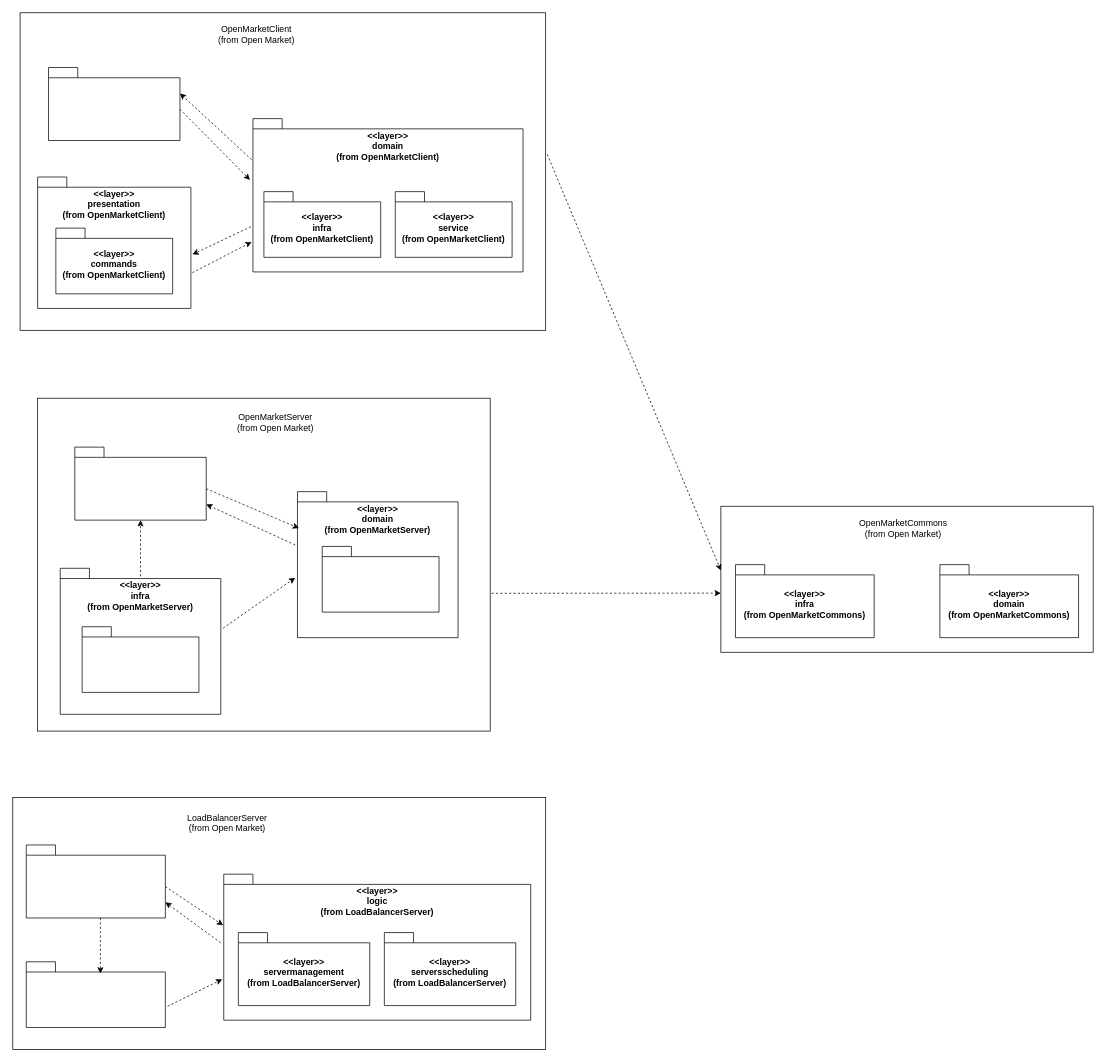
Image size: 1106x1062. Some labels were removed from this diagram. Each missing label, with the centre of its shape:
<<layer>> access (from OpenMarketClient): pixel 114 104
<<layer>> access (from OpenMarketServer): pixel 140 483
<<layer>> infra (from LoadBalancerServer): pixel 95 881
<<layer>> presentation (from LoadBalancerServer): pixel 95 994
<<layer>> service (from OpenMarketServer): pixel 380 579
<<layer>> tcpip (from OpenMarketServer): pixel 140 659
